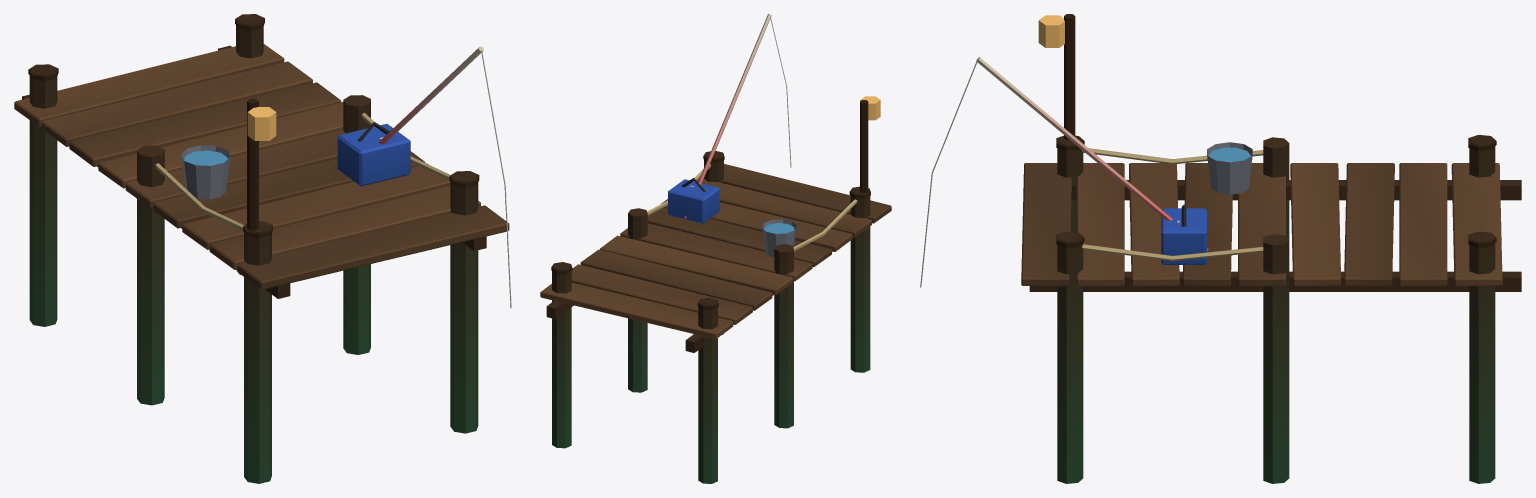
The model's file is fishing_pier.glb.
3 views of the same model, side by side, from view 1: azimuth 30°, elevation 25°; view 2: azimuth 150°, elevation 25°; view 3: azimuth 270°, elevation 25° (orthographic). The views are drawn at different scales.
Visible parts, largest first — view 1: fishing_pier, Cylinder; view 2: fishing_pier; view 3: fishing_pier, Cylinder.
Part boxes in pixels (bbox=[...]): fishing_pier: bbox=[14, 14, 511, 483]; Cylinder: bbox=[247, 107, 276, 140]; fishing_pier: bbox=[540, 14, 891, 483]; fishing_pier: bbox=[920, 14, 1521, 483]; Cylinder: bbox=[1038, 15, 1064, 47].
Size of the model in its own units: 2.4 by 3.92 by 5.26.
